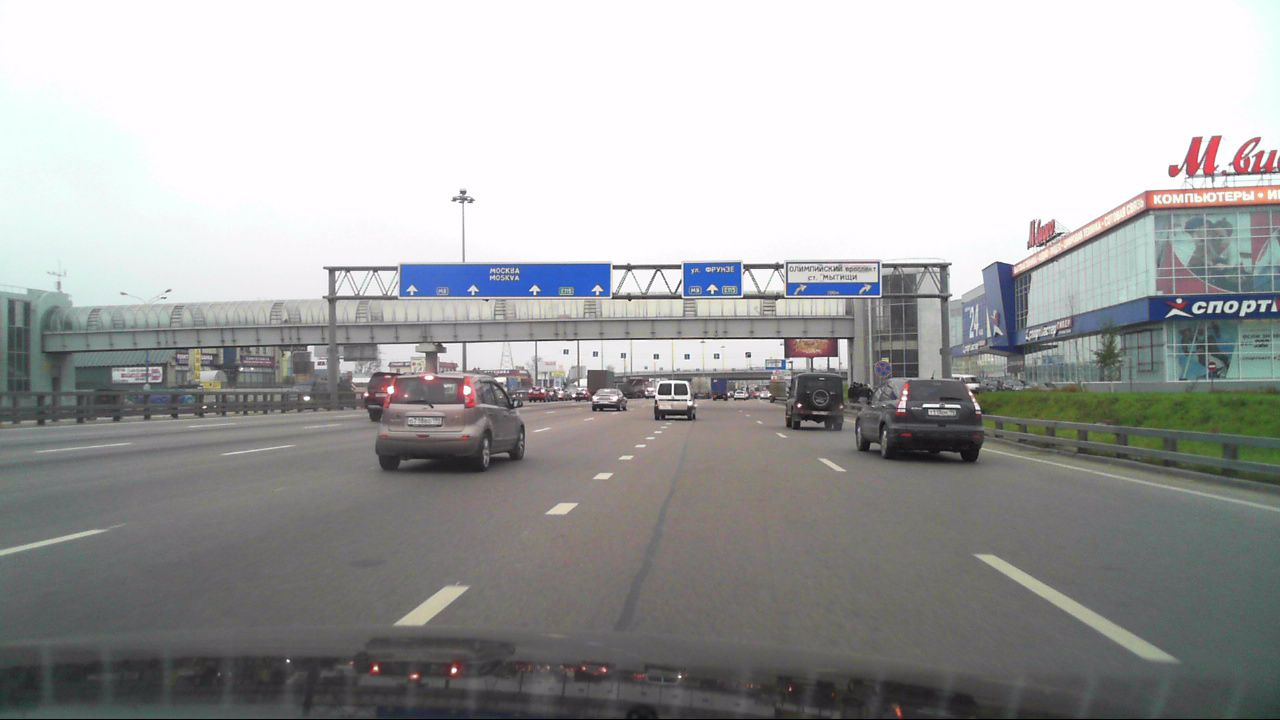No Parking: (872, 360, 891, 377)
